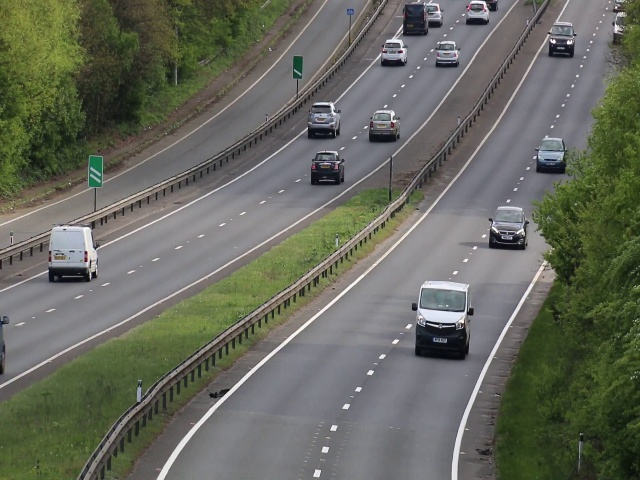car: (417, 281, 470, 359), (49, 227, 97, 282), (489, 205, 528, 248), (311, 150, 345, 185), (308, 102, 340, 137), (368, 108, 399, 141), (538, 136, 566, 172), (550, 22, 575, 58), (402, 2, 429, 35), (434, 40, 461, 67), (381, 40, 407, 65), (465, 1, 491, 23), (428, 1, 442, 25)
